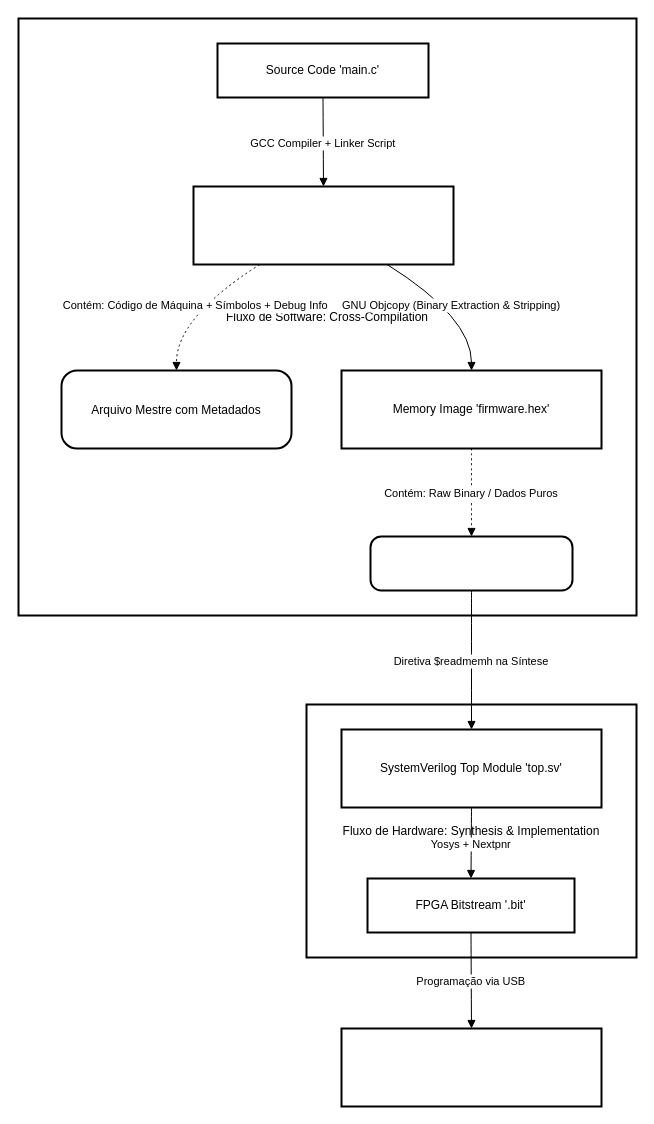
Image size: 654x1124. Some labels were removed from this diagram. The shapes that lost their labels are listed below. From the top down, each one's centre as x and y in pixels, then its label:
the point at 323,225: Linked Executable 'firmware.elf'
the point at 471,563: Imagem de Inicialização
the point at 471,1067: Hardware Físico: FPGA + RISC-V
